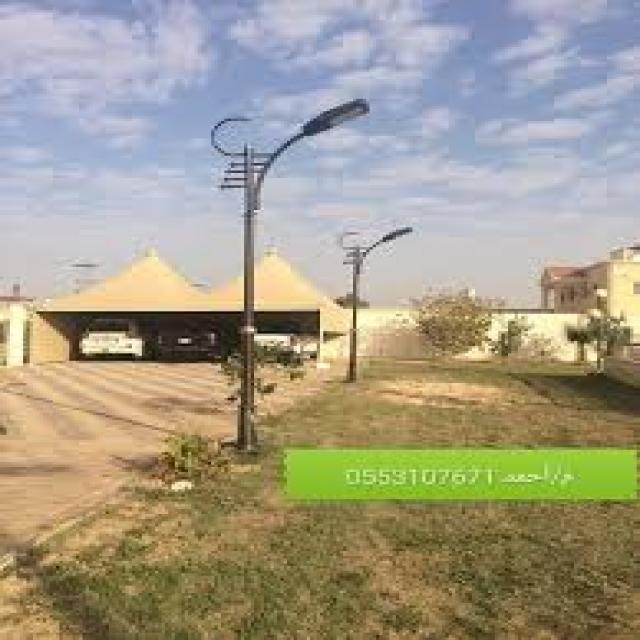Street Light: (218, 96, 373, 450), (333, 225, 416, 378)
